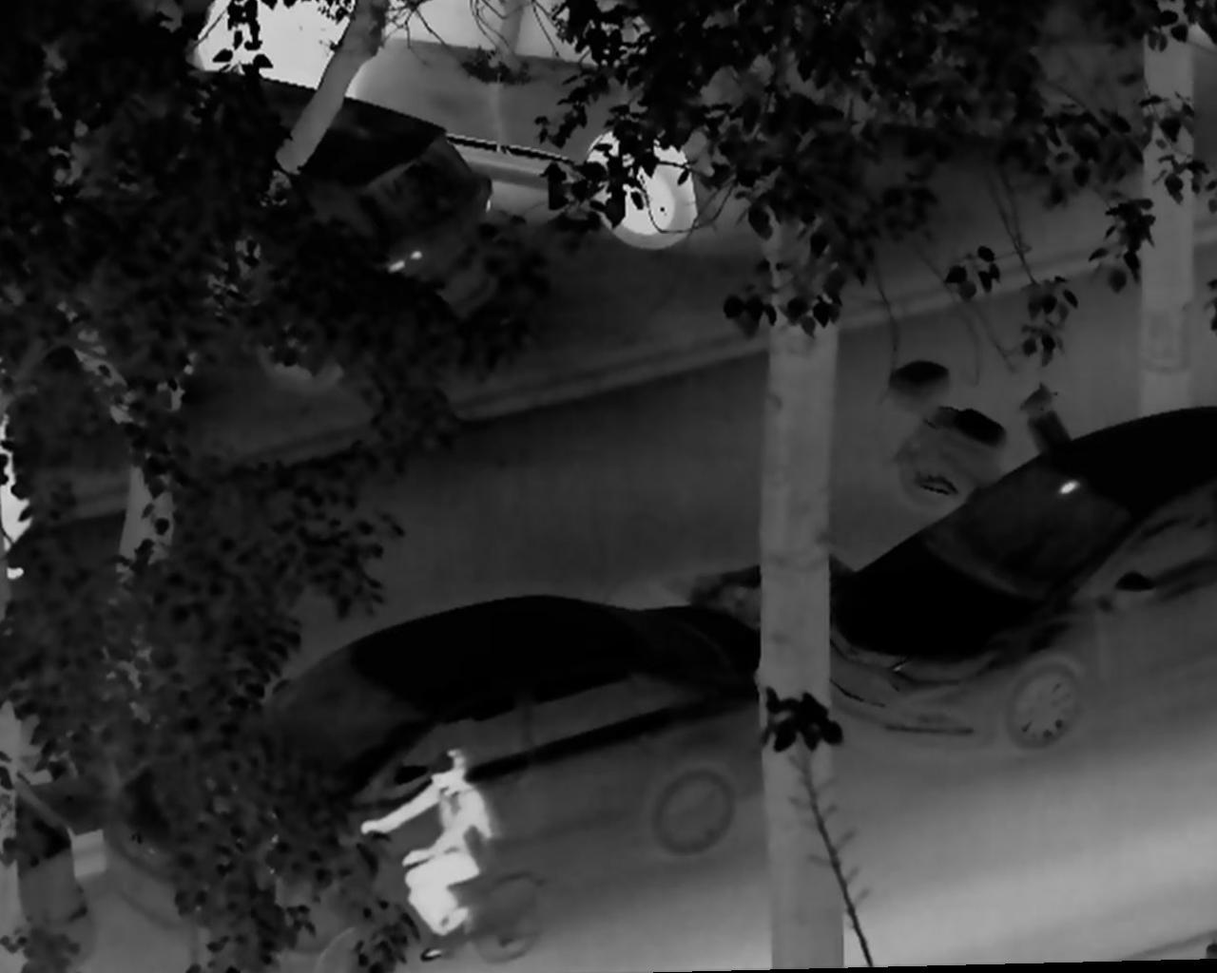person: (354, 747, 492, 964)
